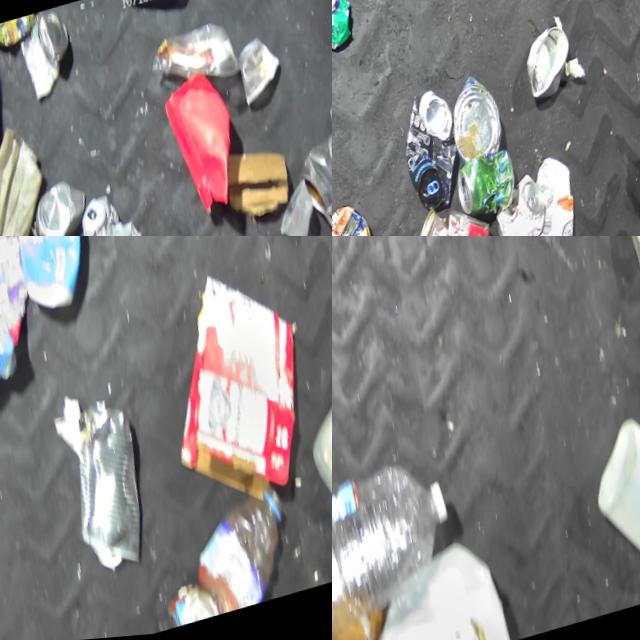can: (60, 400, 171, 599), (394, 88, 476, 221), (11, 4, 88, 109), (445, 74, 514, 170), (453, 152, 525, 229), (24, 168, 101, 236), (520, 25, 582, 108), (490, 176, 559, 236), (294, 139, 332, 236), (169, 578, 230, 636), (424, 205, 516, 236), (332, 202, 386, 236), (332, 0, 361, 60), (412, 210, 461, 236)
milk_jug: (364, 532, 526, 640), (580, 405, 640, 611), (299, 355, 332, 528)
plastic_bottle: (332, 447, 474, 640), (195, 496, 310, 626)
